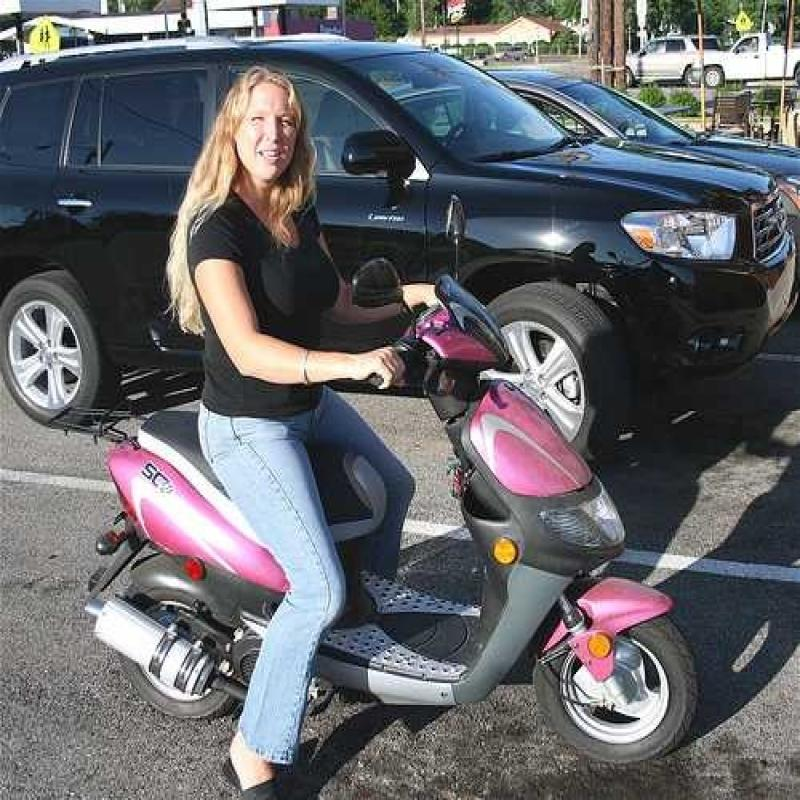bike: (103, 216, 705, 751)
